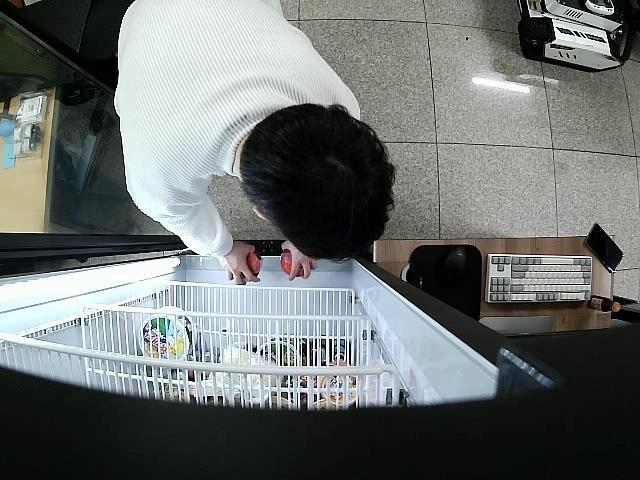02_shinRamen_S: (278, 247, 314, 280), (234, 253, 262, 282)
